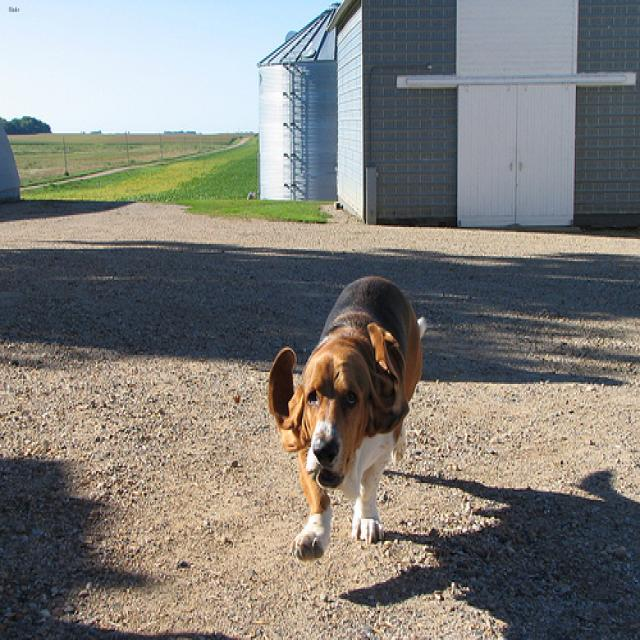dog-basset_hound: (260, 268, 431, 570)
